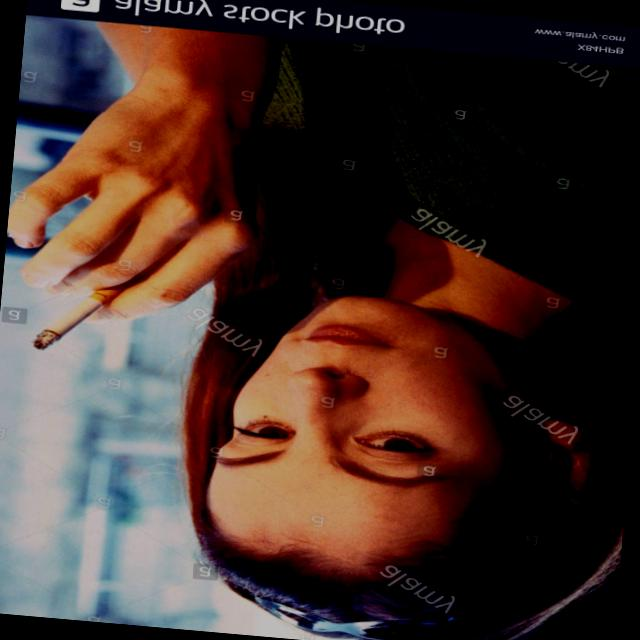smoke: (19, 262, 154, 370)
